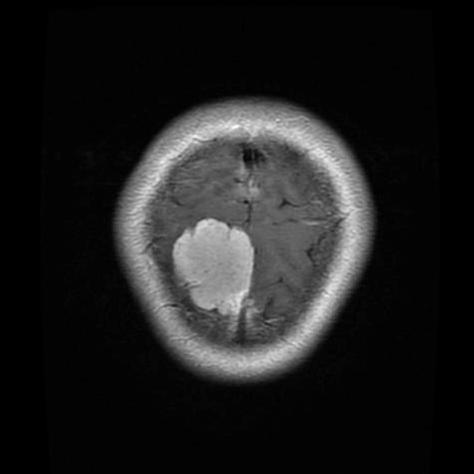Tumour-Meningioma: (168, 213, 271, 319)
